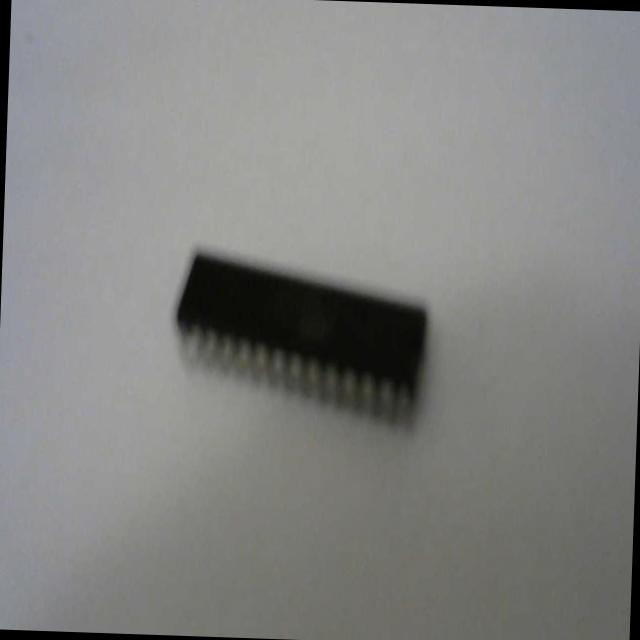atmega: (168, 241, 432, 435)
